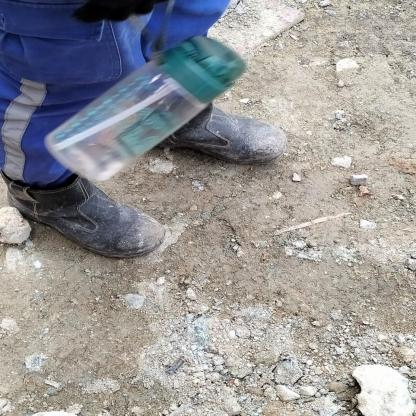bota: (2, 169, 163, 269)
